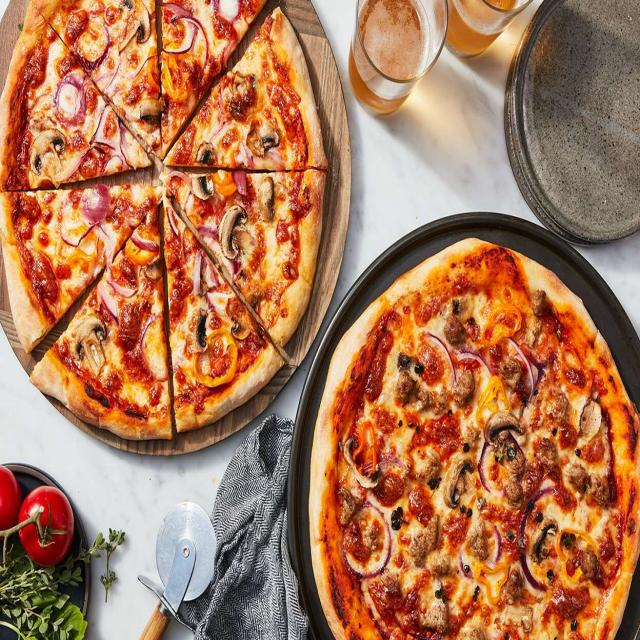pizza: (0, 0, 329, 445), (307, 237, 640, 640)
